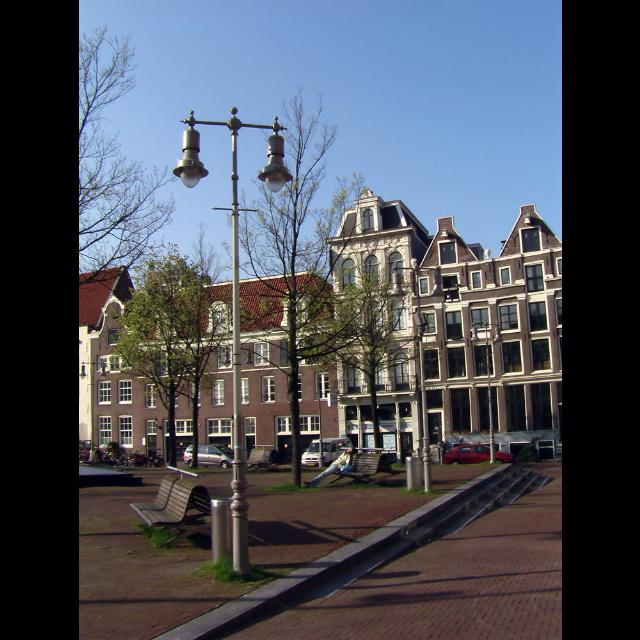Street-Lamp: (169, 105, 297, 578)
